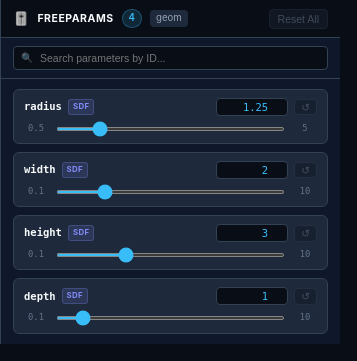
Test: ParameterInspector Component › filters parameters when user types into search input
Type "rad" into the field with test id "param-search-input" at coordinates (170, 58), box [13,46,328,70]
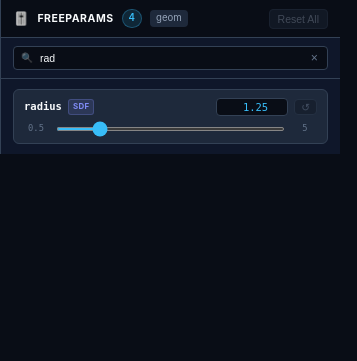
Expected: the element with test id "param-card-width" is gone
Expected: the element with test id "param-card-height" is gone
Expected: the element with test id "param-card-depth" is gone
Clear search using clear button
Click the button with test id "clear-search-btn" at coordinates (314, 58), box [307,49,322,67]
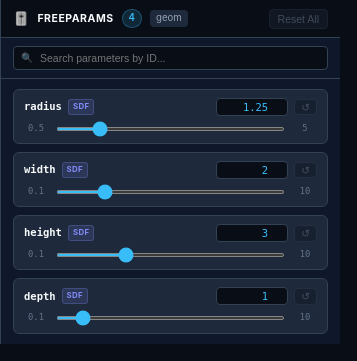
Expected: the element with test id "param-card-width" is shown, [13,152,328,207]
